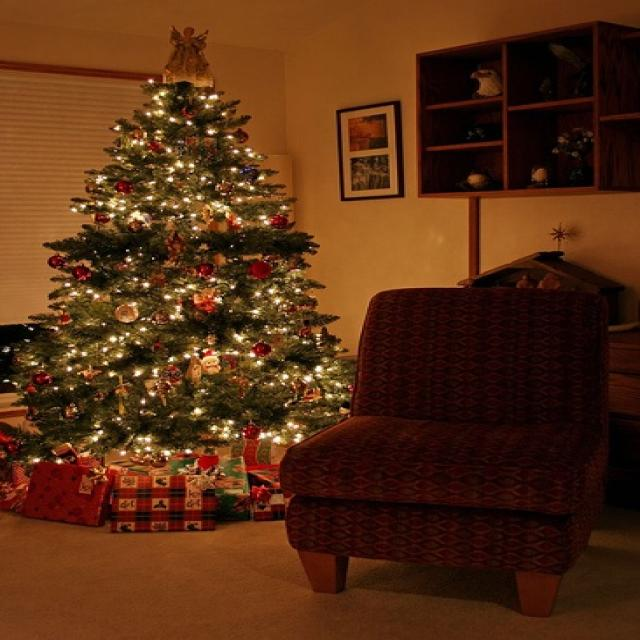chair: (279, 280, 613, 622)
